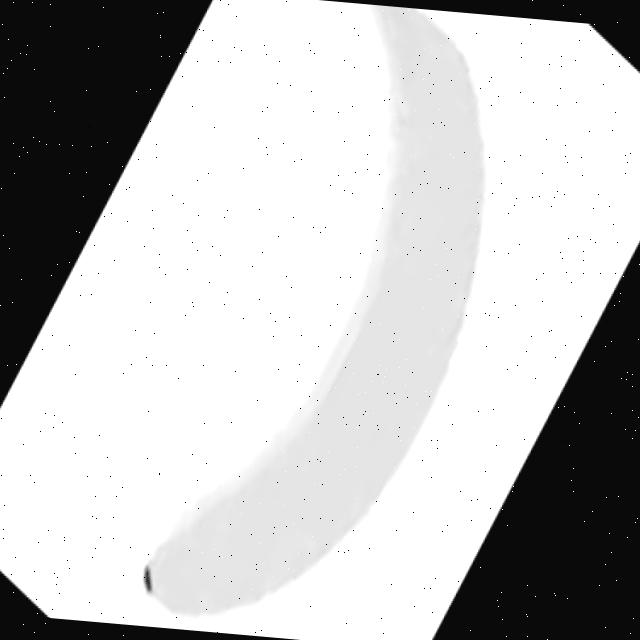Ripe: (130, 0, 503, 638)
